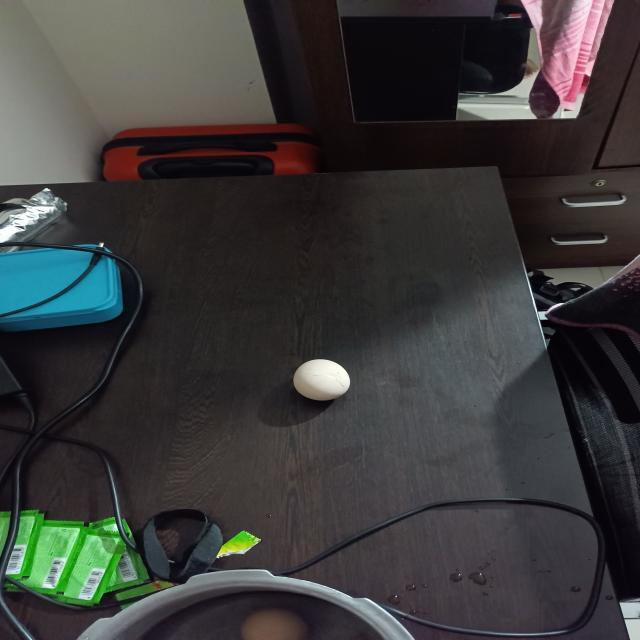biodegradable: (290, 358, 350, 402)
